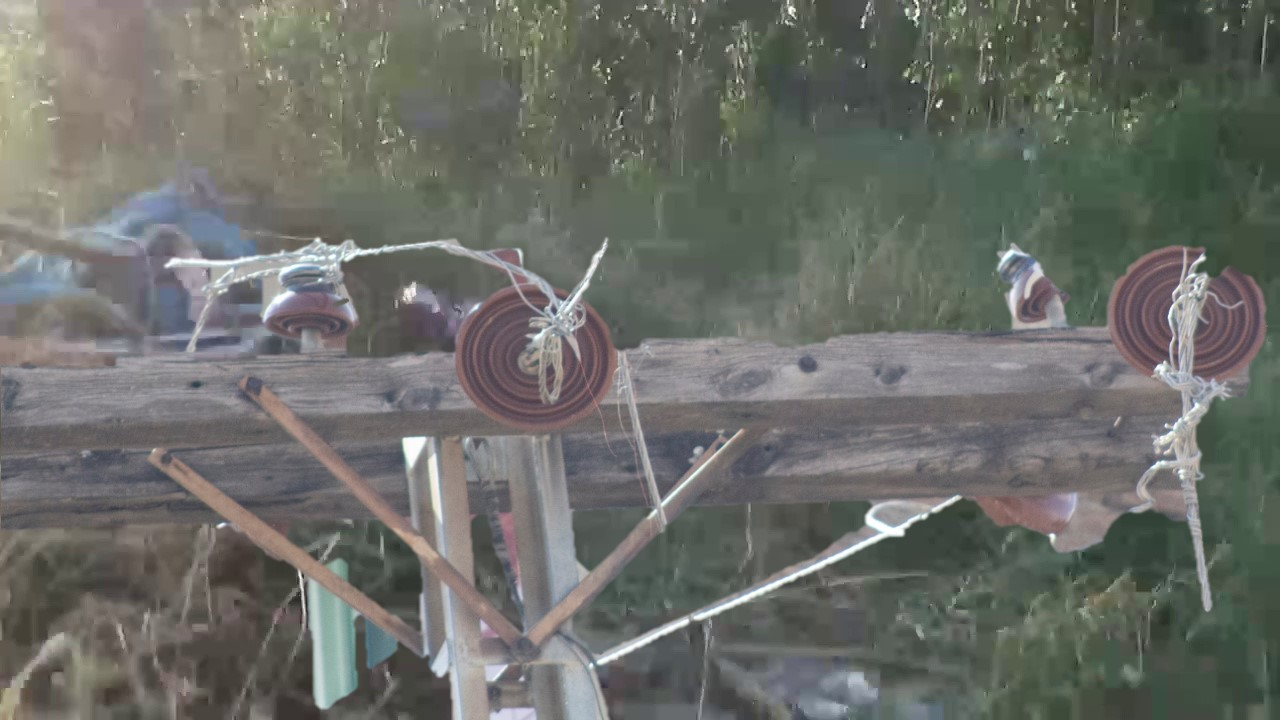defect_pin: (994, 241, 1070, 334)
insulator_disc: (451, 279, 620, 442), (1104, 233, 1270, 391)
insulator_pin: (257, 256, 365, 347)
